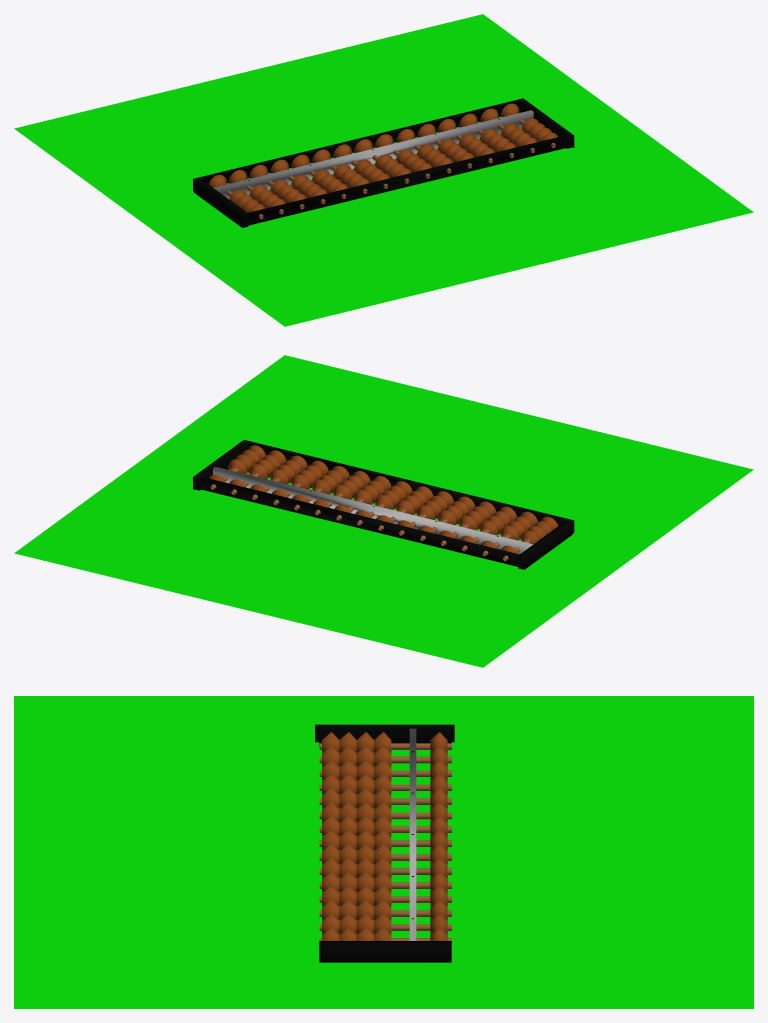
Rendered from そろばん.glb.
The picture shows the model from 3 angles, top to bottom: view 1: azimuth 30°, elevation 25°; view 2: azimuth 150°, elevation 25°; view 3: azimuth 270°, elevation 25°; orthographic projection. The views are drawn at different scales.
Visible parts, largest first — view 1: 平面, 立方体.005; view 2: 平面, 立方体.005, 円.024, 円.017, 円.016, 円.022, 円.018, 円.021, 円.019, 円.026, 円.025, 円.028 (+5 smaller); view 3: 平面, 立方体.005, 円.026, 円.022, 円.018, 円.017, 円.023, 円.027, 円.029, 円.019, 円.028, 円.020 (+5 smaller).
Part boxes in pixels (left/top/right/bottom): 平面: left=14, top=14, right=753, bottom=326; 立方体.005: left=193, top=98, right=574, bottom=227; 平面: left=14, top=355, right=753, bottom=667; 立方体.005: left=193, top=440, right=574, bottom=569; 円.024: left=416, top=491, right=453, bottom=519; 円.017: left=270, top=455, right=307, bottom=484; 円.016: left=249, top=450, right=286, bottom=479; 円.022: left=375, top=481, right=412, bottom=509; 円.018: left=291, top=460, right=328, bottom=489; 円.021: left=354, top=476, right=391, bottom=504; 円.019: left=312, top=465, right=349, bottom=494; 円.026: left=438, top=496, right=475, bottom=525; 円.025: left=228, top=445, right=265, bottom=474; 円.028: left=479, top=506, right=516, bottom=535; 平面: left=14, top=696, right=753, bottom=1008; 立方体.005: left=315, top=724, right=454, bottom=962; 円.026: left=322, top=787, right=391, bottom=808; 円.022: left=322, top=829, right=391, bottom=850; 円.018: left=322, top=885, right=391, bottom=906; 円.017: left=322, top=899, right=391, bottom=920; 円.023: left=322, top=815, right=391, bottom=836; 円.027: left=322, top=773, right=391, bottom=794; 円.029: left=322, top=745, right=391, bottom=766; 円.019: left=322, top=871, right=391, bottom=892; 円.028: left=322, top=759, right=391, bottom=780; 円.020: left=322, top=857, right=391, bottom=878.
Size of the model in its own units: 5.88 by 0.2334 by 5.88.
